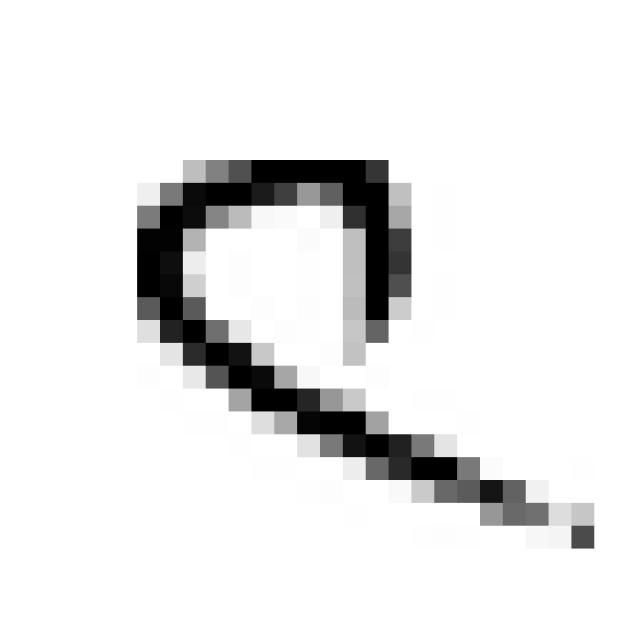2 -two-: (110, 130, 615, 563)
